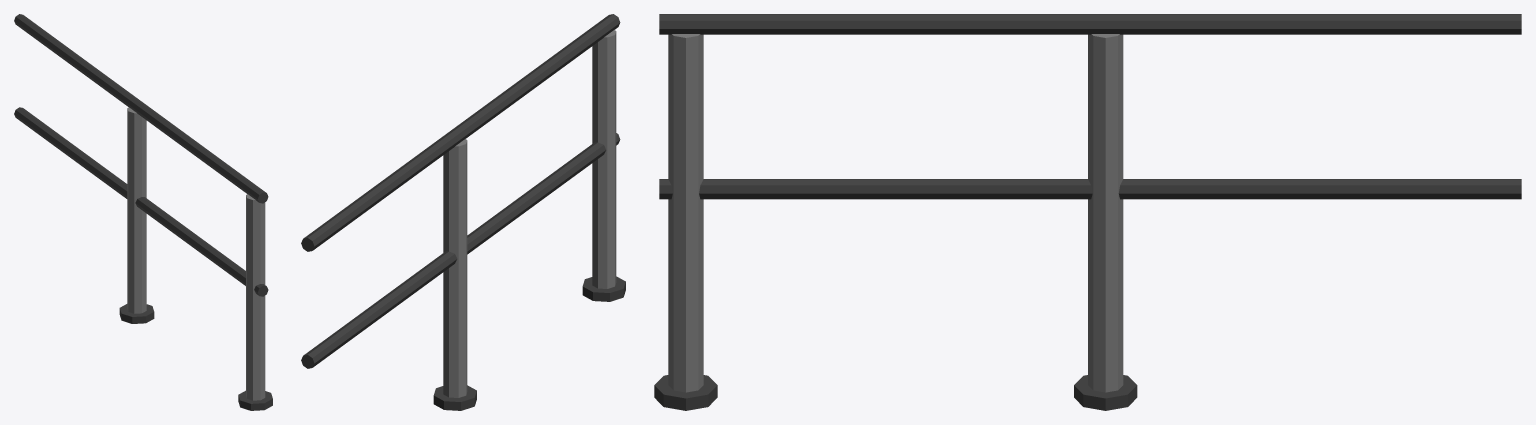
File: fence_03.fbx
The picture shows the model from 3 angles, left to right: view 1: azimuth 30°, elevation 25°; view 2: azimuth 150°, elevation 25°; view 3: azimuth 270°, elevation 25°; orthographic projection. The views are drawn at different scales.
Parts seen in each view (by area): view 1: fence_03; view 2: fence_03; view 3: fence_03.
Part boxes in pixels (box(x1,y1,x2,y2)): fence_03: box(14, 14, 272, 410); fence_03: box(301, 14, 625, 410); fence_03: box(654, 14, 1521, 410).
Size of the model in its own units: 19.71 by 132 by 270.
1 material, 1 textured.
